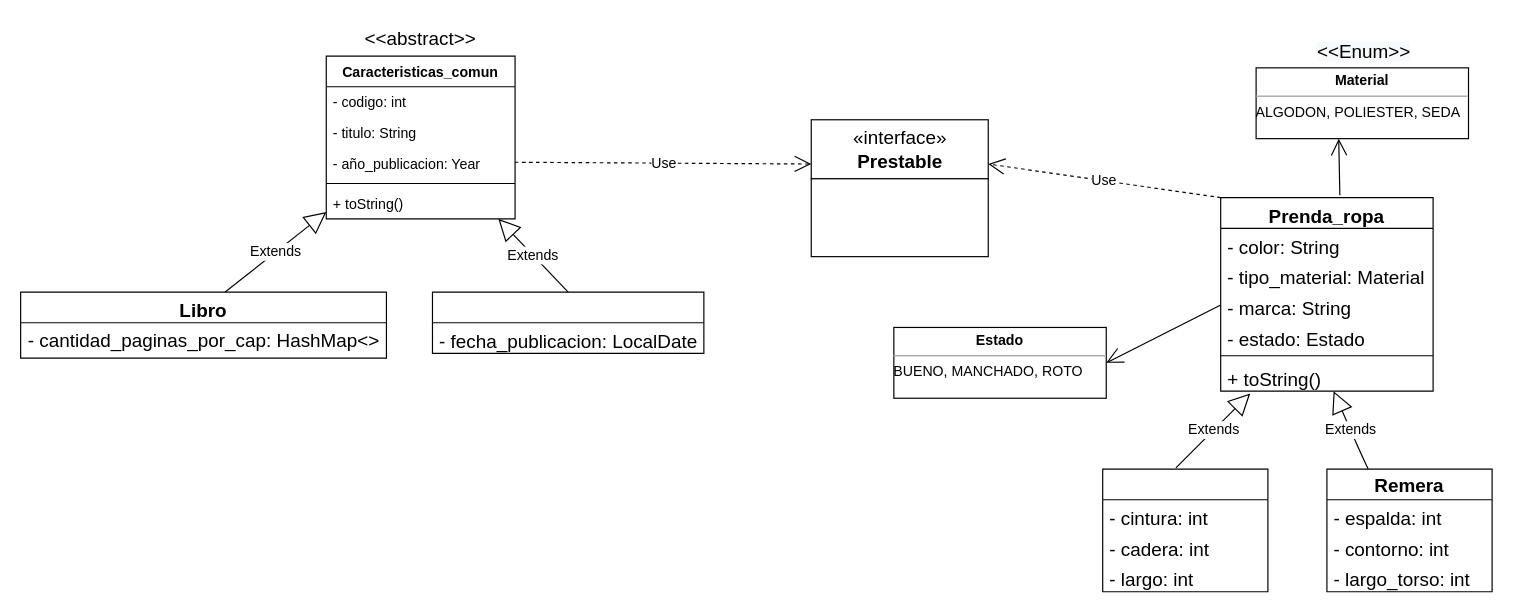
This 1513x615 diagram has some shape labels left out. The box of each missing label's shape, as (x1, y1, x2, y2) in pixels:
+ prestar() +agregarElemento(): (810, 178, 988, 257)
Pantalon: (1102, 468, 1268, 592)
Revista: (431, 291, 704, 353)
